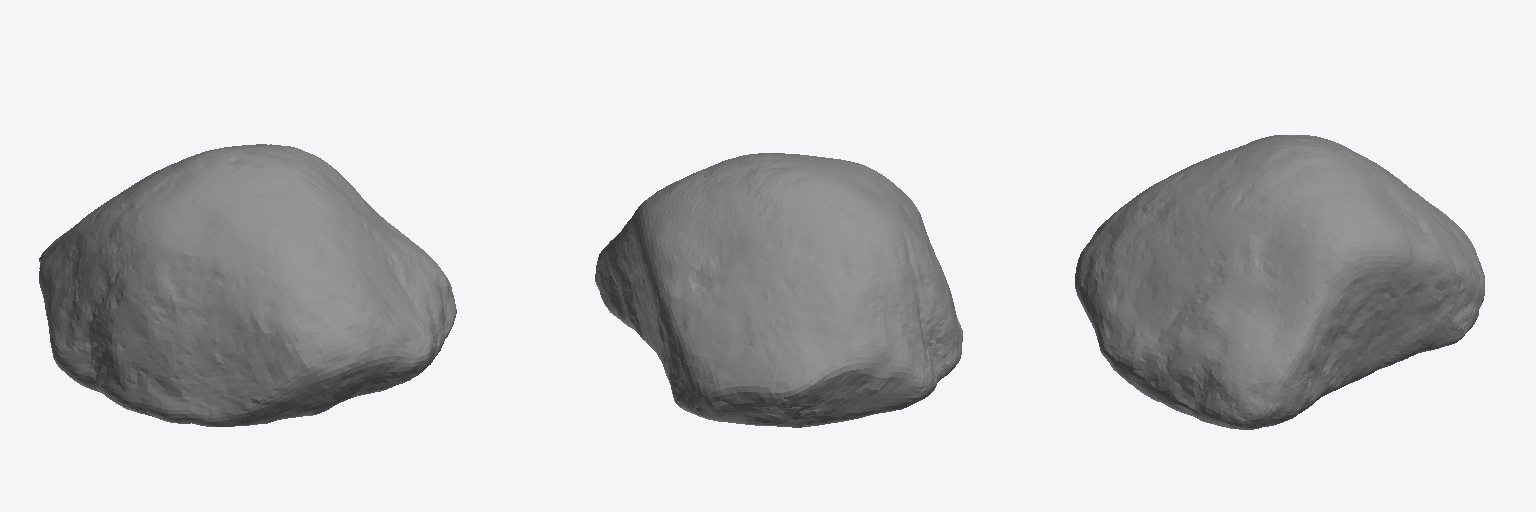
File: rock.obj
The picture shows the model from 3 angles: view 1: azimuth 30°, elevation 25°; view 2: azimuth 150°, elevation 25°; view 3: azimuth 270°, elevation 25°; orthographic projection.
Visible parts, largest first — view 1: Stone5ok17_001; view 2: Stone5ok17_001; view 3: Stone5ok17_001.
Part boxes in pixels (x1,y1,x2,y2): Stone5ok17_001: (39,144,456,426); Stone5ok17_001: (595,153,962,427); Stone5ok17_001: (1075,135,1484,429).
Size of the model in its own units: 2.14 by 1.11 by 2.12.